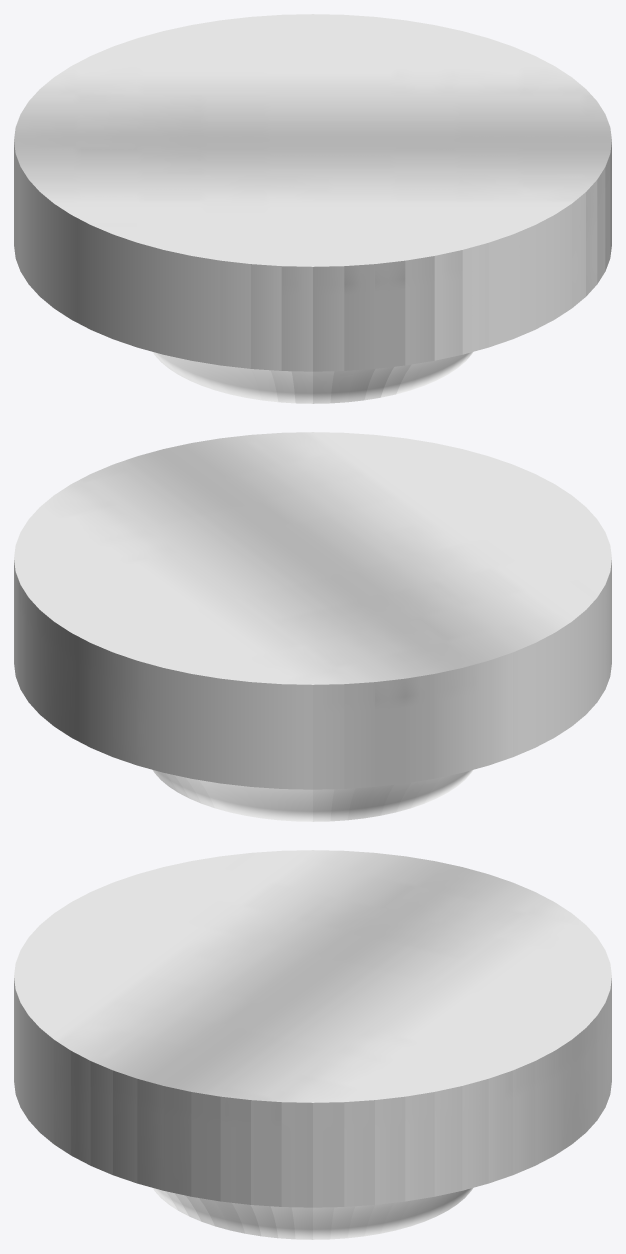
The model's file is original-15.obj.
The picture shows the model from 3 angles, top to bottom: view 1: azimuth 30°, elevation 25°; view 2: azimuth 150°, elevation 25°; view 3: azimuth 270°, elevation 25°; orthographic projection.
Parts seen in each view (by area): view 1: Group15/mesh106/mesh106-geometry#mesh106-geometry; view 2: Group15/mesh106/mesh106-geometry#mesh106-geometry; view 3: Group15/mesh106/mesh106-geometry#mesh106-geometry.
Boxes of the visible parts, x1,y1,x2,y2 form: Group15/mesh106/mesh106-geometry#mesh106-geometry: (14, 14, 611, 403); Group15/mesh106/mesh106-geometry#mesh106-geometry: (14, 432, 611, 821); Group15/mesh106/mesh106-geometry#mesh106-geometry: (14, 850, 611, 1239).
Size of the model in its own units: 0.1006 by 0.0362 by 0.1006.
Materials: 2 (2 with a texture image).
